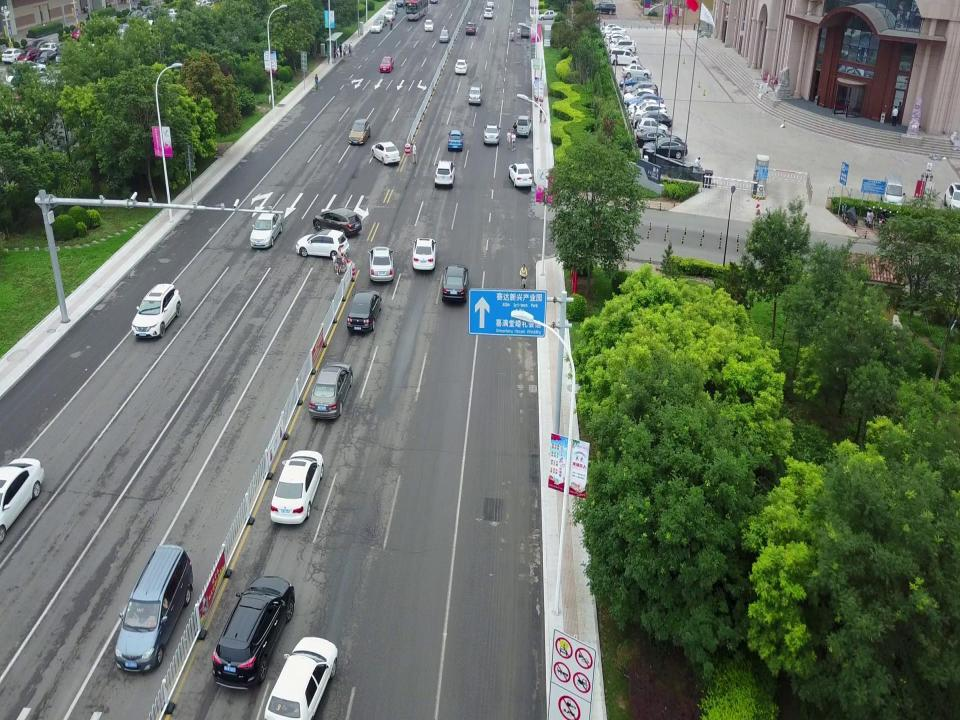bus: (404, 0, 428, 20)
car: (115, 544, 195, 674), (212, 575, 298, 691), (264, 636, 339, 719), (269, 450, 325, 526), (0, 458, 46, 544), (129, 282, 181, 339), (308, 362, 352, 419), (296, 227, 350, 258), (346, 289, 382, 334), (313, 207, 362, 234), (250, 212, 283, 247), (442, 264, 468, 300), (642, 138, 688, 158), (368, 246, 393, 282), (412, 238, 436, 271), (636, 129, 680, 147), (372, 141, 400, 166), (634, 112, 672, 129), (633, 102, 667, 121), (637, 117, 669, 137), (608, 46, 640, 66), (624, 81, 658, 98), (628, 93, 664, 109), (349, 117, 371, 143), (629, 99, 659, 118), (623, 88, 657, 104), (620, 74, 650, 92), (510, 164, 532, 188), (435, 160, 455, 186), (622, 62, 652, 78), (1, 45, 25, 64), (608, 38, 636, 52), (18, 46, 40, 63), (447, 131, 463, 152), (516, 115, 532, 136), (593, 2, 616, 15), (37, 49, 55, 64), (40, 41, 58, 56), (484, 125, 498, 144), (601, 27, 627, 37), (468, 86, 482, 104), (606, 33, 631, 43), (538, 9, 558, 21), (26, 40, 44, 53), (380, 57, 393, 73), (599, 23, 619, 33), (454, 58, 466, 74), (370, 20, 382, 33), (466, 22, 477, 34), (376, 15, 388, 26), (440, 30, 450, 42), (424, 19, 434, 31), (384, 9, 394, 21), (484, 7, 492, 17), (388, 3, 396, 13), (396, 0, 406, 7), (486, 1, 495, 8)
van: (880, 173, 906, 211)
